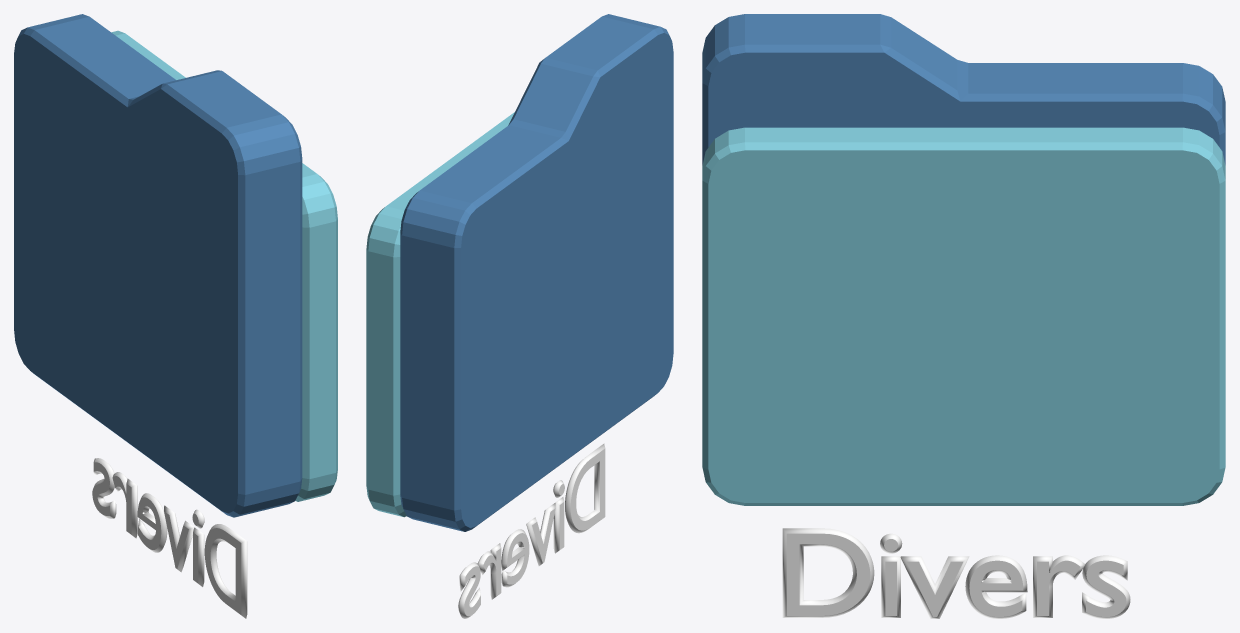
Rendered from Folder_Divers.fbx.
The picture shows the model from 3 angles, left to right: view 1: azimuth 30°, elevation 25°; view 2: azimuth 150°, elevation 25°; view 3: azimuth 270°, elevation 25°; orthographic projection. The views are drawn at different scales.
Visible parts, largest first — view 1: FolderIcon_2, Text.003; view 2: FolderIcon_2, Text.003; view 3: FolderIcon_2, Text.003.
Part boxes in pixels (box(x1,y1,x2,y2)): FolderIcon_2: box(14, 14, 337, 517); Text.003: box(92, 458, 247, 618); FolderIcon_2: box(366, 14, 673, 531); Text.003: box(458, 443, 605, 618); FolderIcon_2: box(702, 14, 1225, 505); Text.003: box(782, 528, 1130, 618).
Bounding box in the file's own units: 65.51 × 322 × 261.
